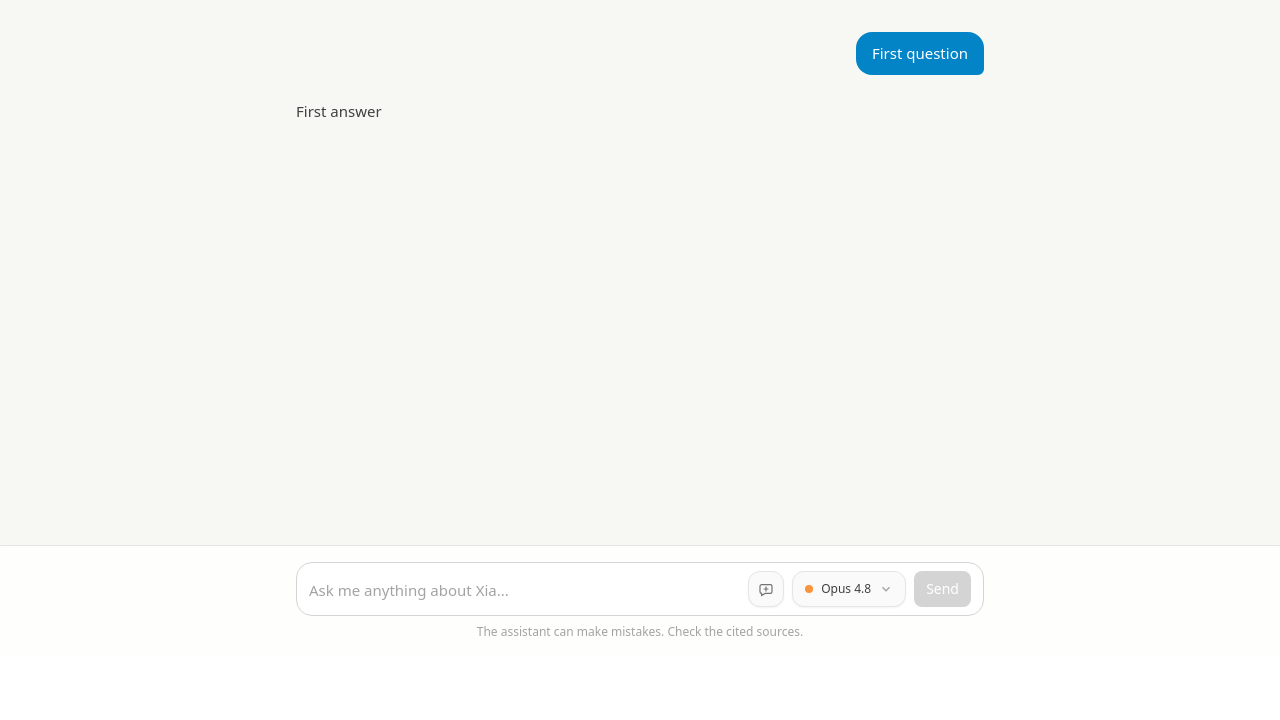
Test: sends conversation history and renders the streamed answer
Step 1. Type "Follow up" into the text box with placeholder "Ask me anything about Xia..." → x=525, y=590, box [309,572,740,607]
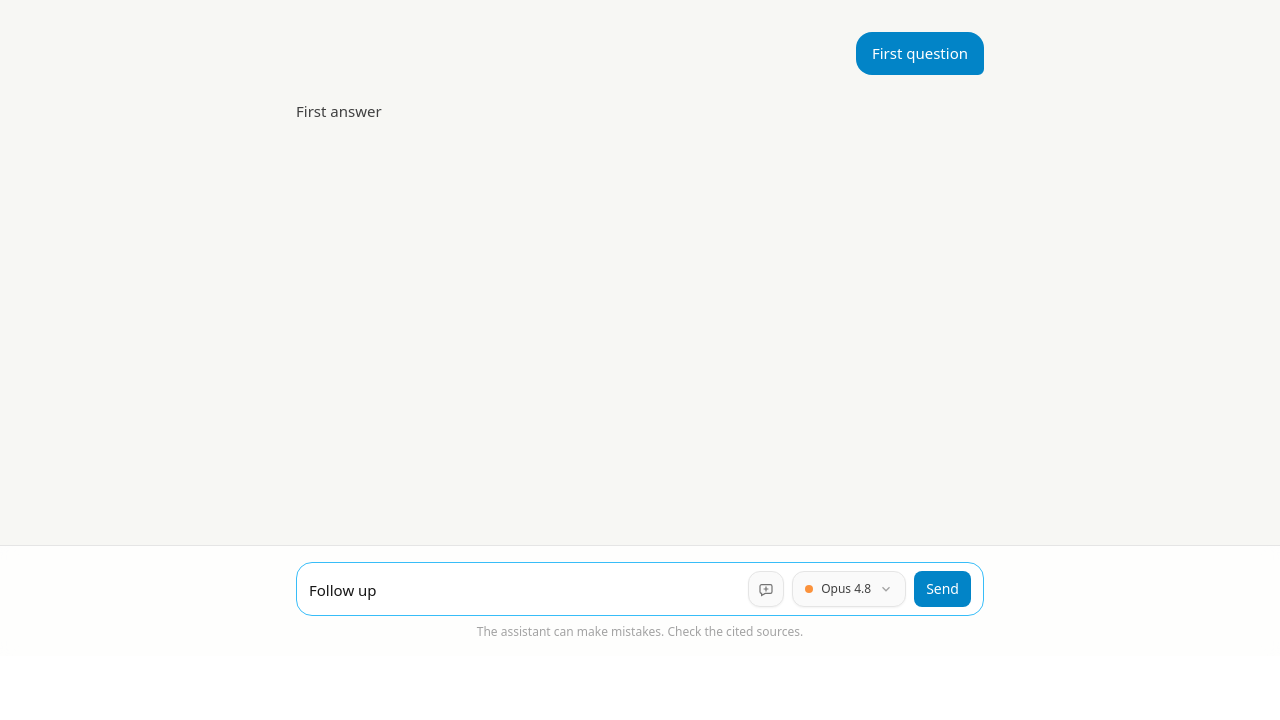
Step 2. Click the button "Send" → x=943, y=589, box [914,571,971,607]
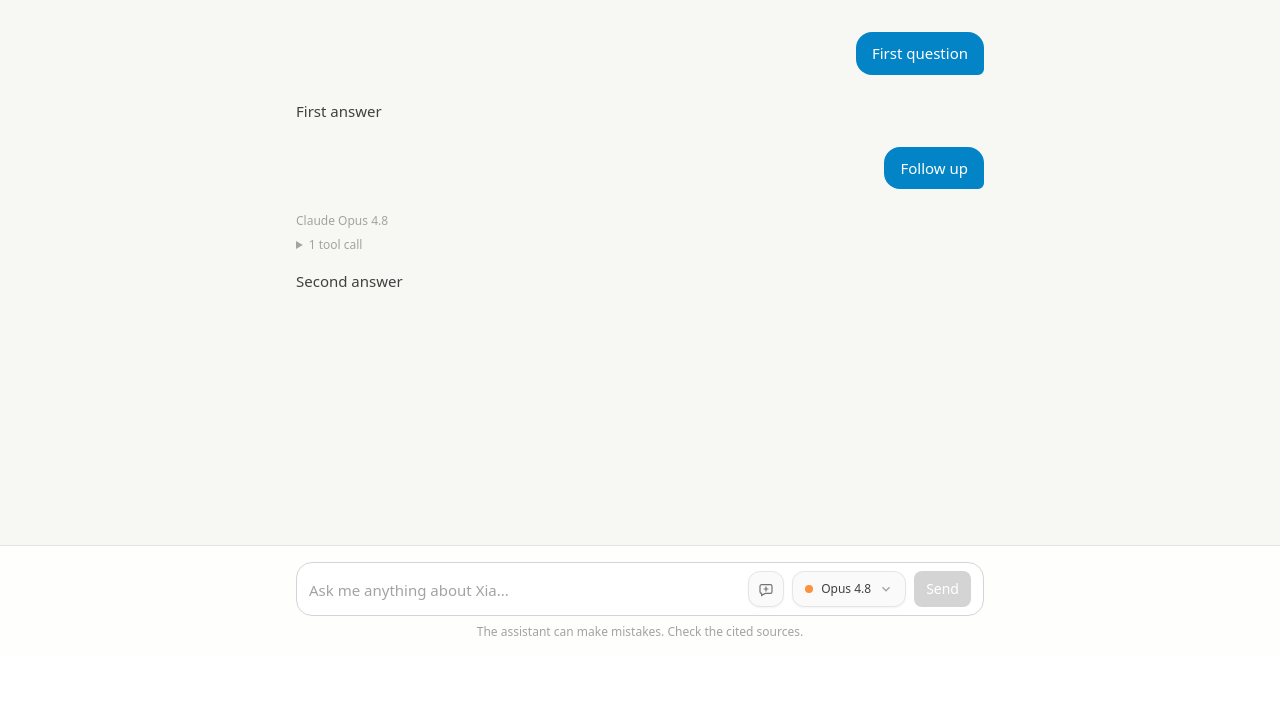
Expected: the text "Second answer" is shown, [296,271,403,291]
